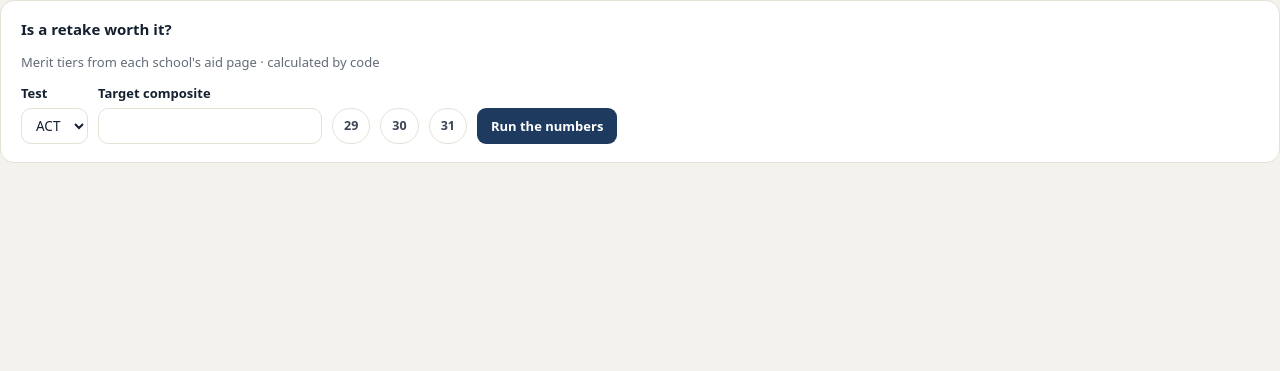
Test: RetakeForm › checks the target, starts the job, then shows the code's table and Prep's explanation
The width and height of the screenshot is (1280, 371).
Type "40" into the field labelled "Target composite" at (210, 126), box [98,108,322,144]
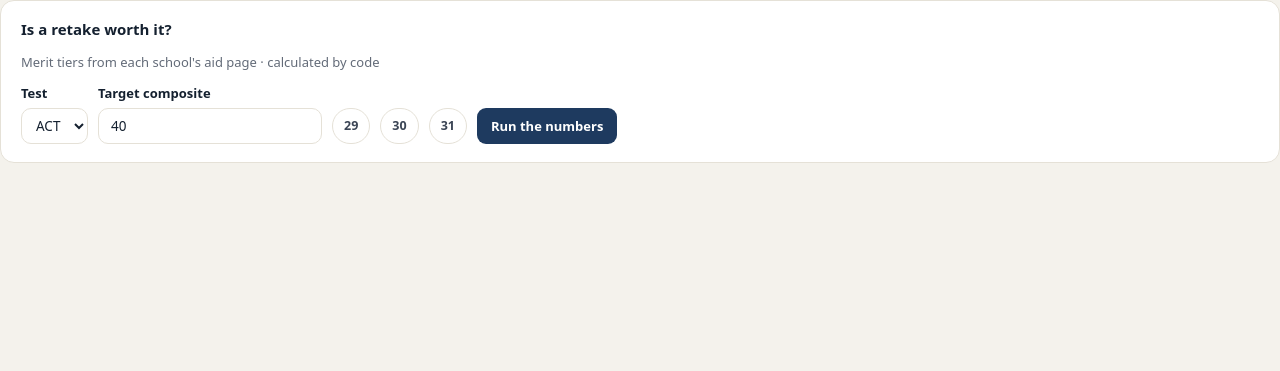
Click the button "Run the numbers" at (547, 126), box [477,108,617,144]
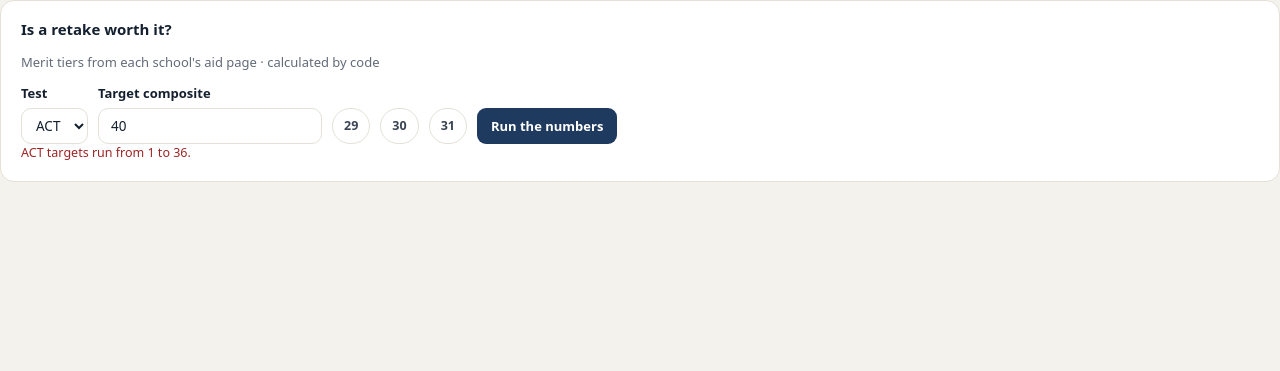
Expected: the message reads "ACT targets run from 1 to 36.", [21,144,191,161]
Click the button "29" at (351, 126), box [332,108,370,144]
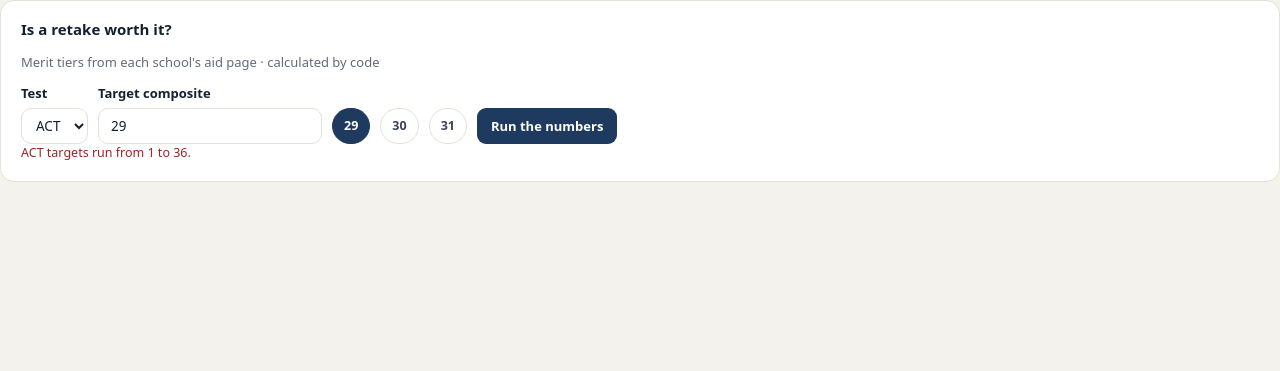
Click the button "Run the numbers" at (547, 126), box [477,108,617,144]
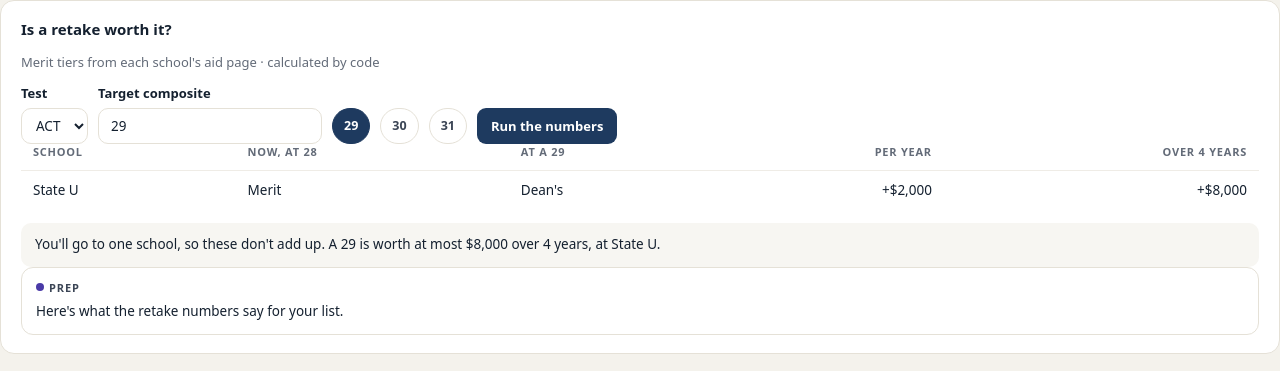
Expected: the text "Here's what the retake numbers say for your list." is shown, [36,302,344,320]
Expected: the text "Merit" is shown, [236,171,509,211]
Expected: the text "Dean's" is shown, [509,171,708,211]
